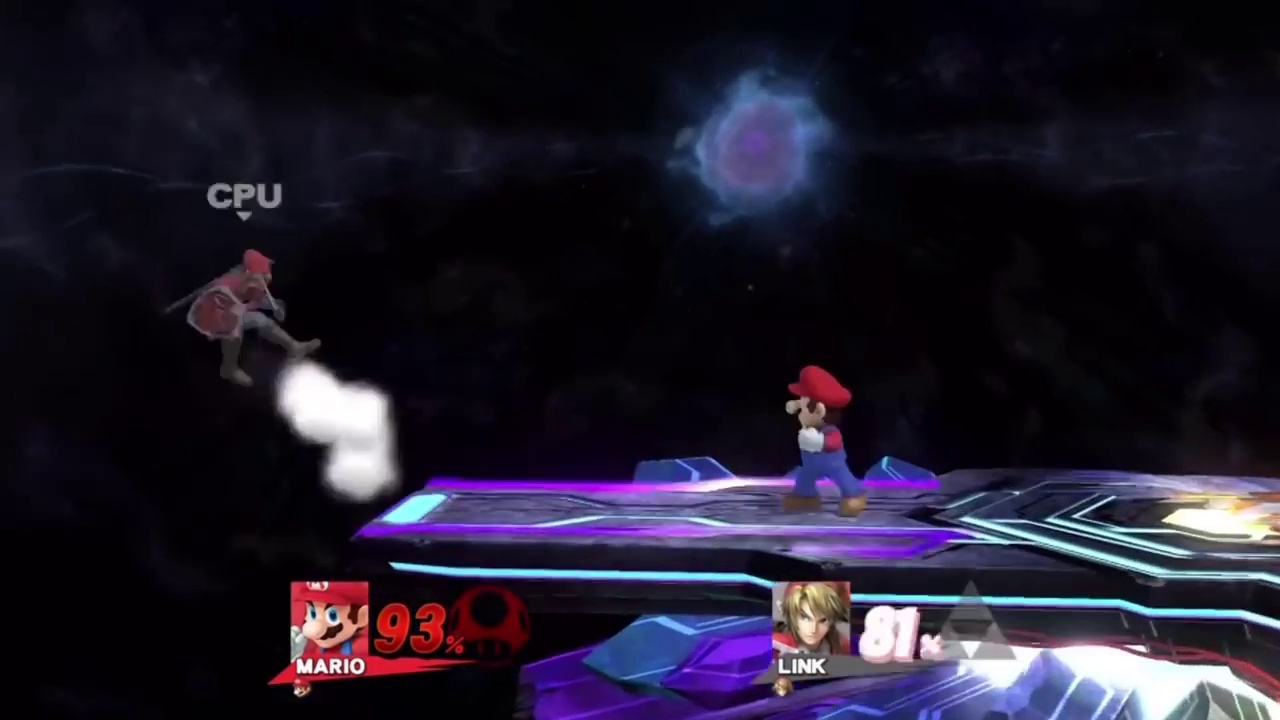Mario: (784, 366, 868, 517)
